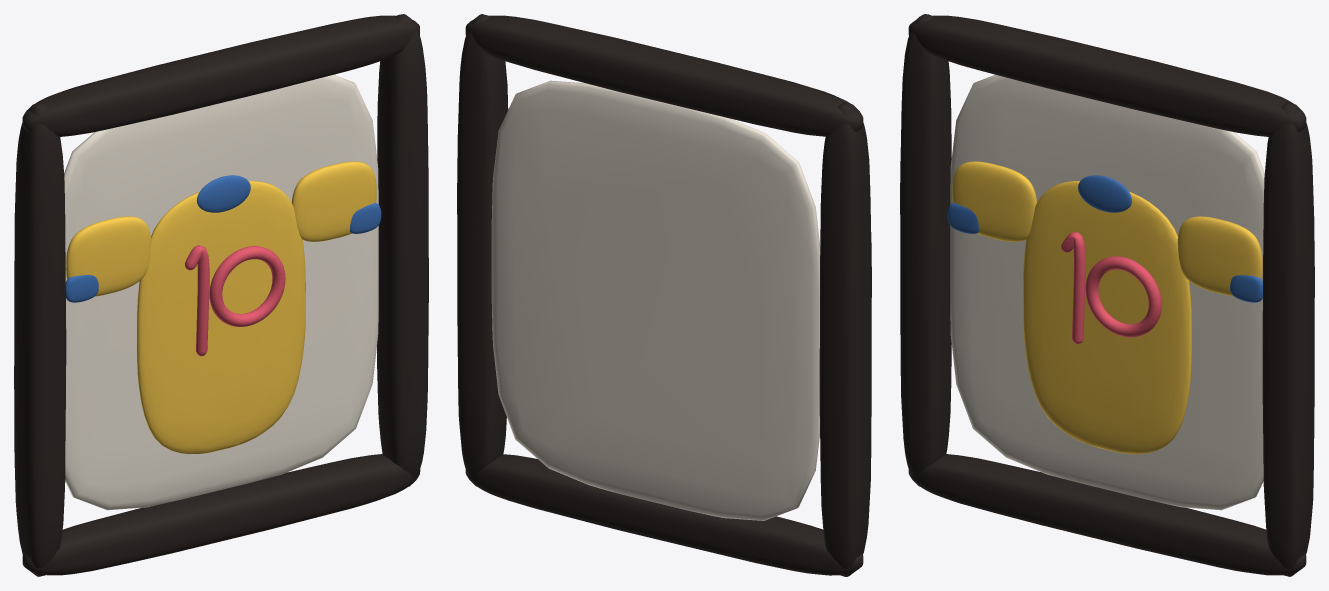
File: deco_camiseta.glb
3 views of the same model, side by side, from view 1: azimuth 30°, elevation 25°; view 2: azimuth 150°, elevation 25°; view 3: azimuth 330°, elevation 25° (orthographic).
Parts seen in each view (by area): view 1: lienzo.017, torso camiseta.001, marco vertical.034, marco vertical.035, marco horizontal.035, marco horizontal.034, manga 1.001, manga -1.001, cero.001, uno.001, cuello camiseta.001, puño -1.001 (+1 smaller); view 2: lienzo.017, marco vertical.034, marco horizontal.035, marco vertical.035, marco horizontal.034; view 3: lienzo.017, torso camiseta.001, marco vertical.035, marco vertical.034, marco horizontal.035, marco horizontal.034, manga -1.001, manga 1.001, cero.001, cuello camiseta.001, uno.001, puño 1.001 (+1 smaller).
Boxes of the visible parts, x1,y1,x2,y2 form: lienzo.017: (64,75,378,510); torso camiseta.001: (136,181,305,454); marco vertical.034: (14,102,66,576); marco vertical.035: (377,14,428,486); marco horizontal.035: (22,15,419,136); marco horizontal.034: (22,454,420,575); manga 1.001: (291,161,376,241); manga -1.001: (66,216,151,296); cero.001: (209,246,285,326); uno.001: (185,245,209,356); cuello camiseta.001: (197,175,250,212); puño -1.001: (65,275,98,302); lienzo.017: (491,80,820,520); marco vertical.034: (819,102,871,576); marco horizontal.035: (465,15,863,136); marco vertical.035: (457,14,508,486); marco horizontal.034: (465,454,863,575); lienzo.017: (950,74,1264,510); torso camiseta.001: (1023,181,1191,454); marco vertical.035: (1262,102,1314,576); marco vertical.034: (900,14,951,486); marco horizontal.035: (908,15,1306,136); marco horizontal.034: (908,454,1306,575); manga -1.001: (952,161,1036,241); manga 1.001: (1177,216,1262,296); cero.001: (1085,256,1161,337); cuello camiseta.001: (1078,175,1131,212); uno.001: (1061,232,1085,344); puño 1.001: (1230,275,1262,302).
Size of the model in its own units: 0.5697 by 0.6498 by 0.0597.
